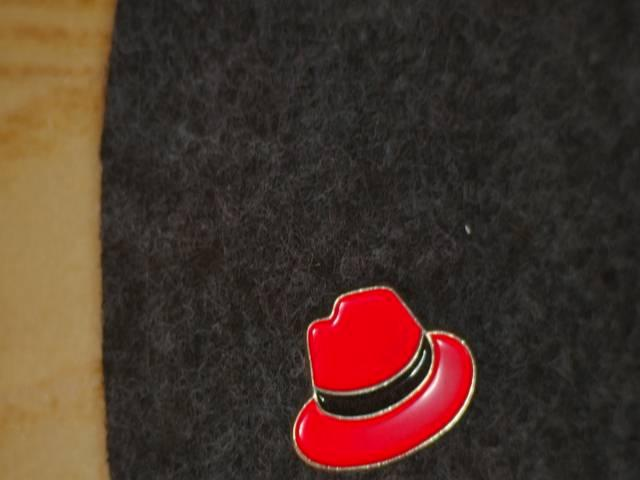Red-Hat: (262, 271, 483, 480)
